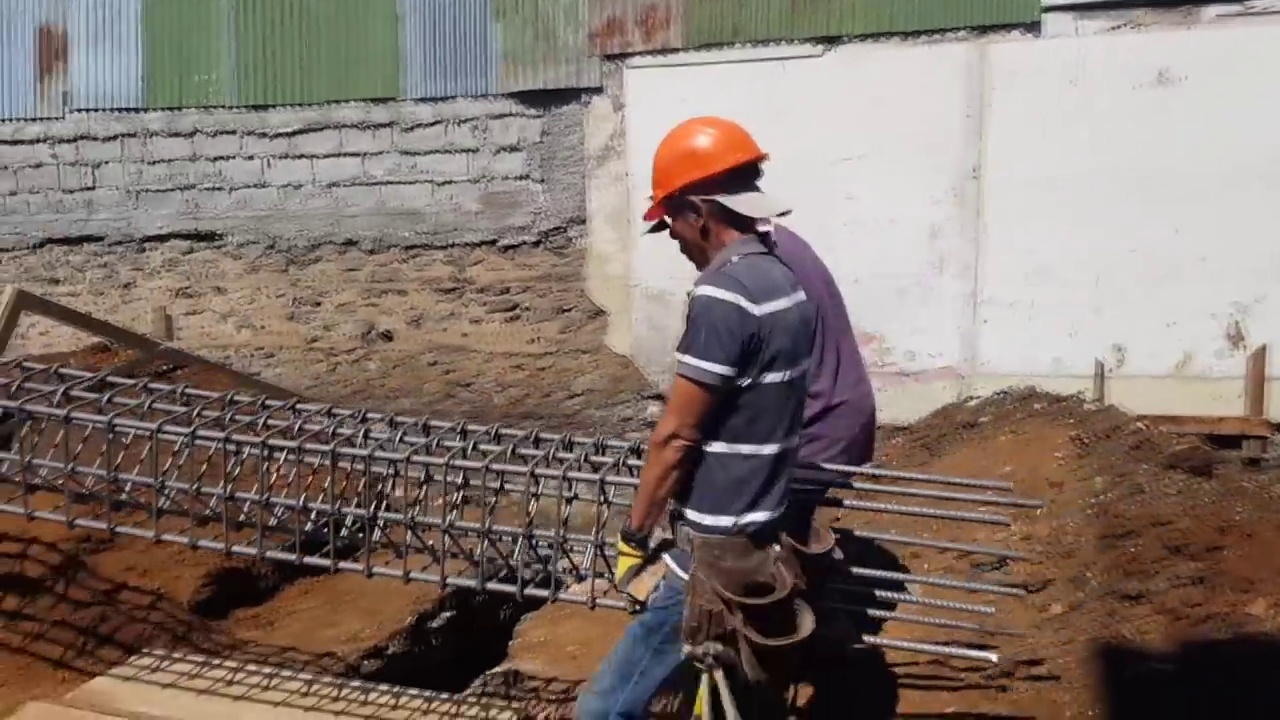helmet: (644, 116, 774, 213)
helmet-on: (638, 112, 777, 275)
person: (577, 106, 870, 719)
